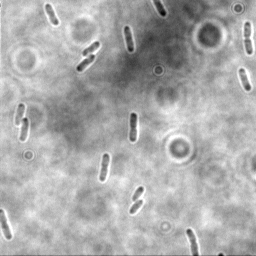Dividing: (185, 227, 200, 255), (242, 21, 254, 56), (1, 207, 13, 241), (98, 152, 111, 183), (128, 112, 139, 143)
Rod: (76, 54, 96, 73), (122, 25, 135, 54), (43, 4, 60, 26), (238, 68, 252, 93), (13, 103, 27, 127), (81, 41, 101, 57), (128, 199, 145, 216), (131, 186, 146, 203), (19, 117, 28, 143)
